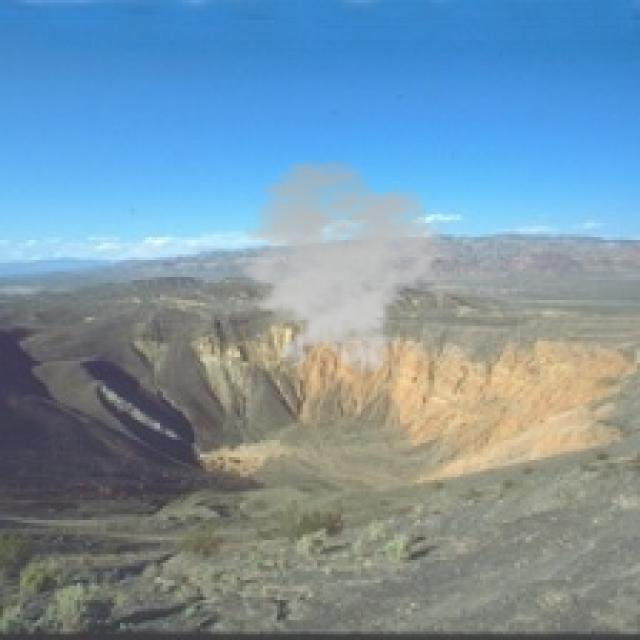smoke: (217, 157, 446, 374)
